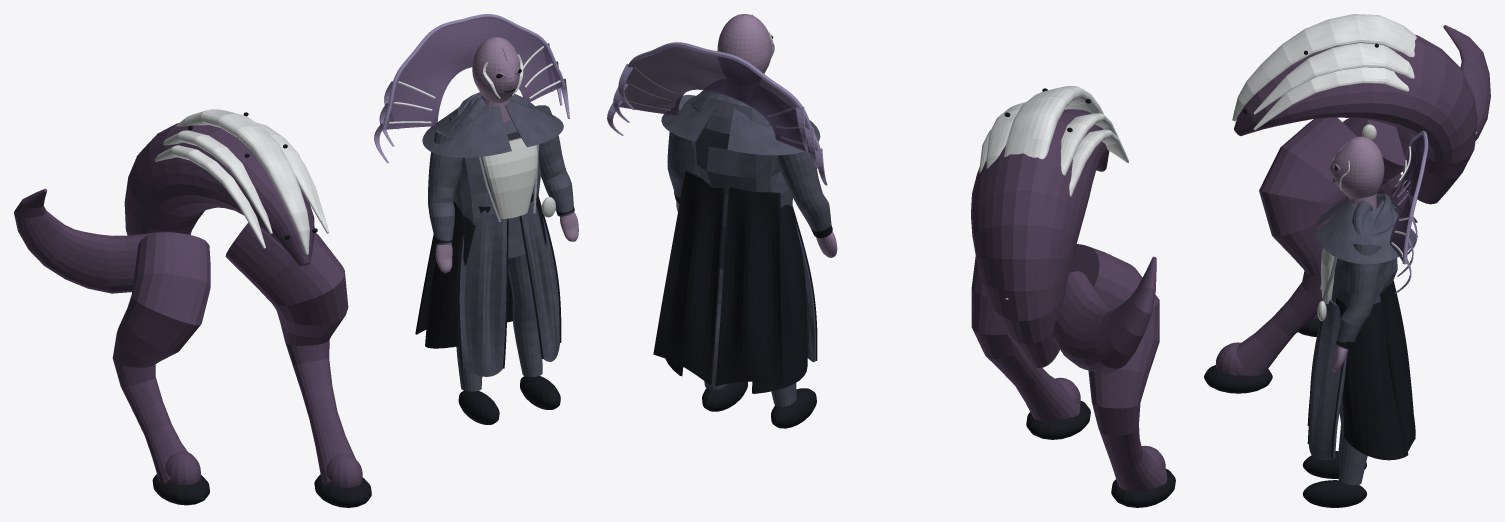
The model's file is Riftwalker.obj.
3 views of the same model, side by side, from view 1: azimuth 30°, elevation 25°; view 2: azimuth 150°, elevation 25°; view 3: azimuth 270°, elevation 25° (orthographic). The views are drawn at different scales.
Parts seen in each view (by area): view 1: Vaskel_Limb_L, Vaskel_Limb_R, Vaskel_CrescentTorso, Avarin_CrescentMantle, Avarin_FrontDrape_L, Vaskel_Counterweight, Vaskel_SensoryCrescent, Avarin_FrontDrape_R, Avarin_OuterDrape_L, Avarin_ShoulderDrape_L, Avarin_ChestProtection, Avarin_Torso (+16 smaller); view 2: Vaskel_CrescentTorso, Avarin_RearDrape_L, Avarin_RearDrape_R, Vaskel_Limb_L, Avarin_CrescentMantle, Vaskel_Counterweight, Avarin_Torso, Vaskel_Limb_R, Avarin_OuterDrape_L, Vaskel_SensoryCrescent, Avarin_Arm_L, Avarin_Head (+13 smaller); view 3: Vaskel_CrescentTorso, Vaskel_Limb_R, Avarin_OuterDrape_R, Vaskel_SensoryCrescent, Avarin_FrontDrape_R, Vaskel_CrescentMargin_1_0, Avarin_ShoulderDrape_R, Avarin_RearDrape_R, Avarin_Head, Avarin_Arm_R, Vaskel_CrescentMargin_1_1, Vaskel_Counterweight (+12 smaller).
Part boxes in pixels (box(x1,y1,x2,y2)): Vaskel_Limb_L: box(112, 232, 210, 484); Vaskel_Limb_R: box(225, 222, 355, 484); Vaskel_CrescentTorso: box(124, 123, 314, 266); Avarin_CrescentMantle: box(386, 18, 562, 129); Avarin_FrontDrape_L: box(457, 213, 507, 376); Vaskel_Counterweight: box(14, 188, 160, 293); Vaskel_SensoryCrescent: box(176, 109, 309, 254); Avarin_FrontDrape_R: box(519, 201, 559, 361); Avarin_OuterDrape_L: box(425, 202, 490, 348); Avarin_ShoulderDrape_L: box(422, 93, 511, 157); Avarin_ChestProtection: box(482, 138, 537, 218); Avarin_Torso: box(450, 92, 540, 258); Vaskel_CrescentTorso: box(971, 109, 1109, 367); Avarin_RearDrape_L: box(715, 187, 784, 386); Avarin_RearDrape_R: box(653, 170, 724, 384); Vaskel_Limb_L: box(1069, 244, 1167, 490); Avarin_CrescentMantle: box(620, 47, 810, 152); Vaskel_Counterweight: box(1053, 256, 1156, 373); Avarin_Torso: box(691, 93, 792, 270); Vaskel_Limb_R: box(971, 256, 1080, 420); Avarin_OuterDrape_L: box(752, 204, 807, 393); Vaskel_SensoryCrescent: box(1004, 86, 1104, 299); Avarin_Arm_L: box(777, 151, 831, 231); Avarin_Head: box(717, 14, 771, 73); Vaskel_CrescentTorso: box(1234, 34, 1477, 204); Vaskel_Limb_R: box(1225, 117, 1356, 375); Avarin_OuterDrape_R: box(1335, 297, 1408, 460); Vaskel_SensoryCrescent: box(1232, 14, 1476, 133); Avarin_FrontDrape_R: box(1309, 299, 1347, 459); Vaskel_CrescentMargin_1_0: box(1253, 43, 1414, 114); Avarin_ShoulderDrape_R: box(1315, 200, 1417, 264); Avarin_RearDrape_R: box(1380, 282, 1415, 455); Avarin_Head: box(1330, 136, 1384, 198); Avarin_Arm_R: box(1336, 244, 1381, 349); Vaskel_CrescentMargin_1_1: box(1253, 67, 1409, 130); Vaskel_Counterweight: box(1396, 25, 1490, 169).
Bounding box in the file's own units: 2.71 × 1.82 × 1.34.
Materials: 11 (6 with a texture image).
